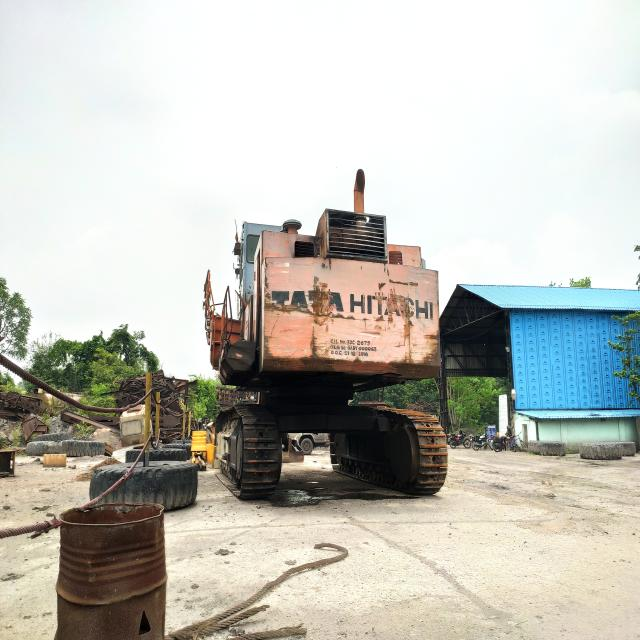excavator: (203, 176, 450, 499)
